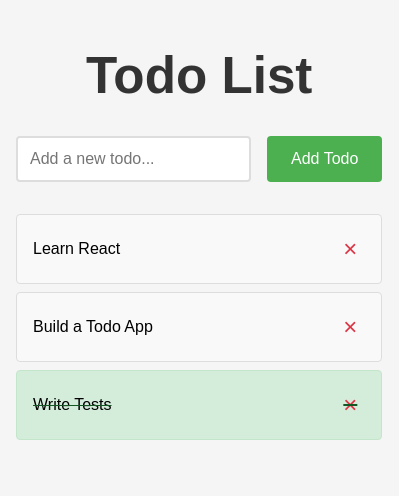
Test: TodoList Component › adds todo by pressing enter
Type and press enter
Step 1. Type "Todo with Enter" into the field with placeholder "Add a new todo..." → [134, 159], box [16,136,251,182]
Then press Enter
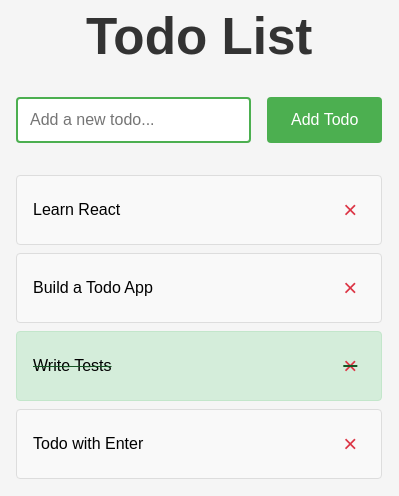
Expected: the text "Todo with Enter" is shown, [33,435,143,452]
